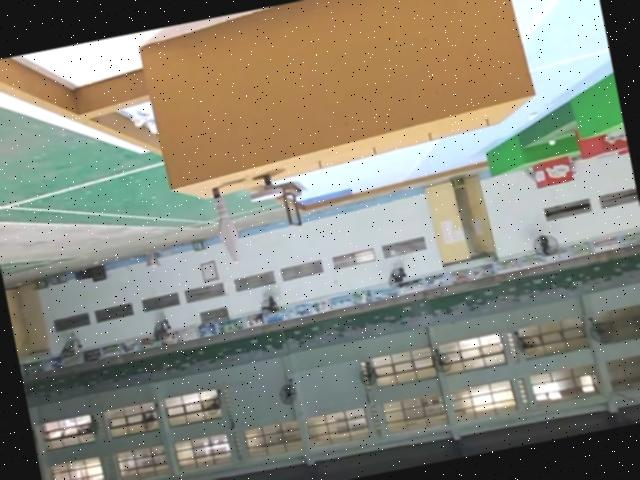Hand: (247, 173, 283, 206)
Sph: (206, 185, 244, 266)
